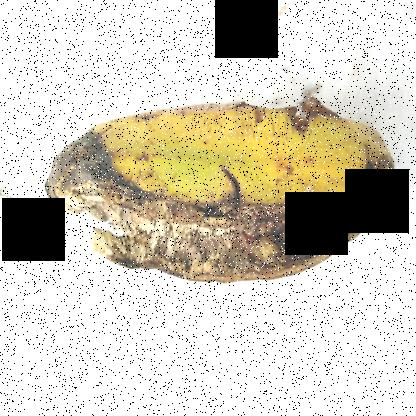rotten: (42, 72, 389, 325)
